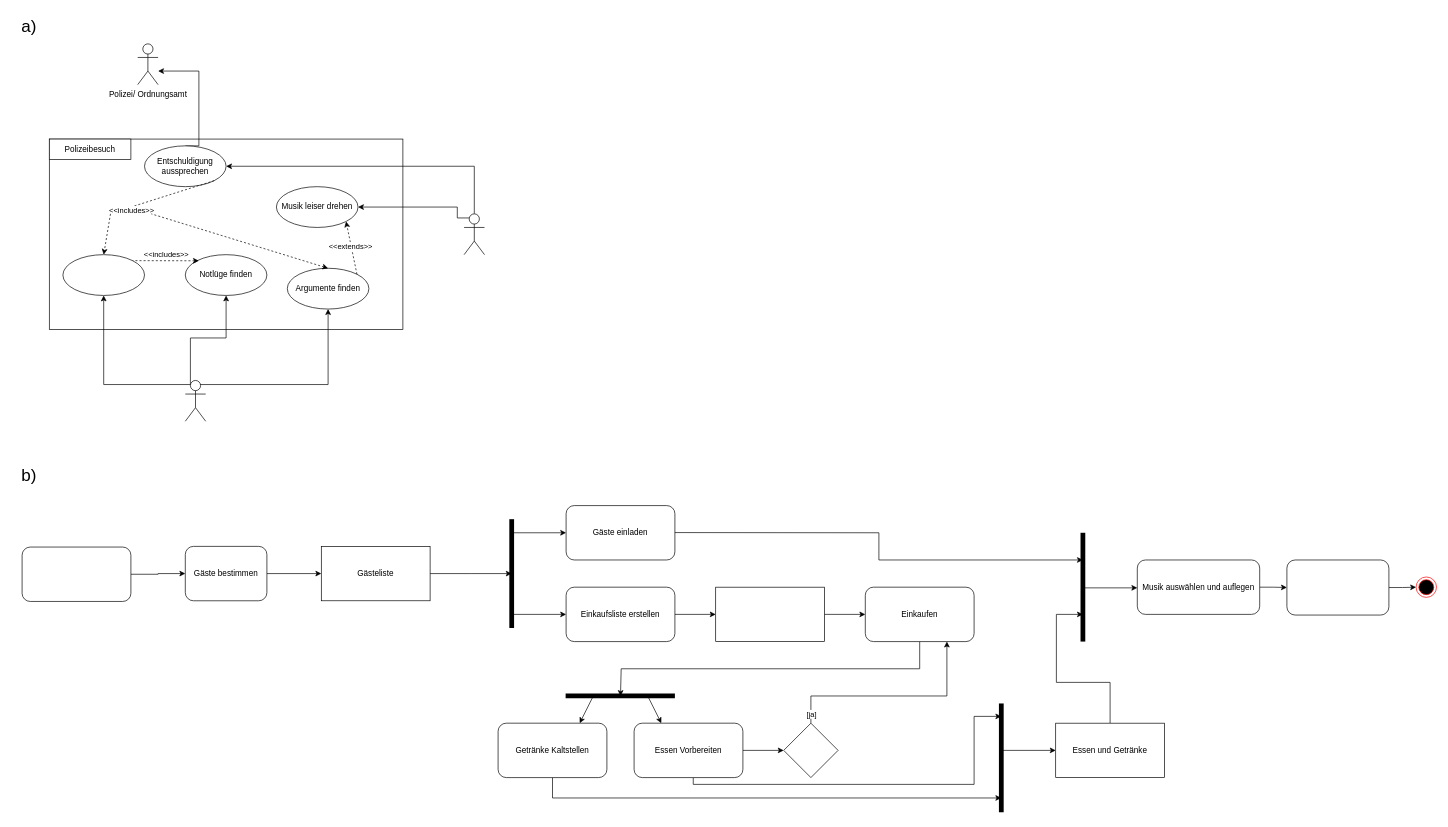
Image size: 1448x827. Some labels were removed from this diagram. Here are the shapes that lost their labels. From the top down, the centre of each, then its label:
At point 474,234: "Gastgeber".
At point 103,274: "Ausrede suchen".
At point 195,400: "Gäste".
At point 76,573: "Nachbarn informieren".
At point 1337,587: "Gäste empfangen".
At point 770,614: "Einkaufsliste".
At point 810,750: "verbrannt?".
